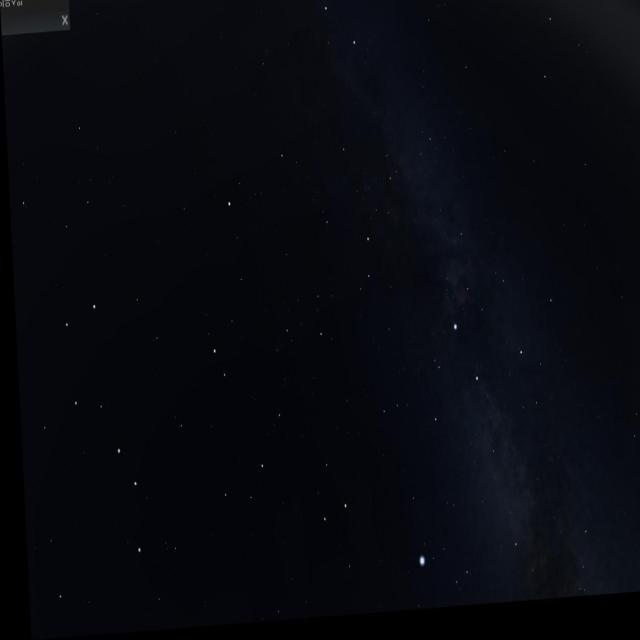cassiopeia: (279, 0, 371, 73)
cygnus: (414, 312, 529, 524)
lyra: (404, 530, 466, 608)
ursa_major: (46, 300, 158, 580)
